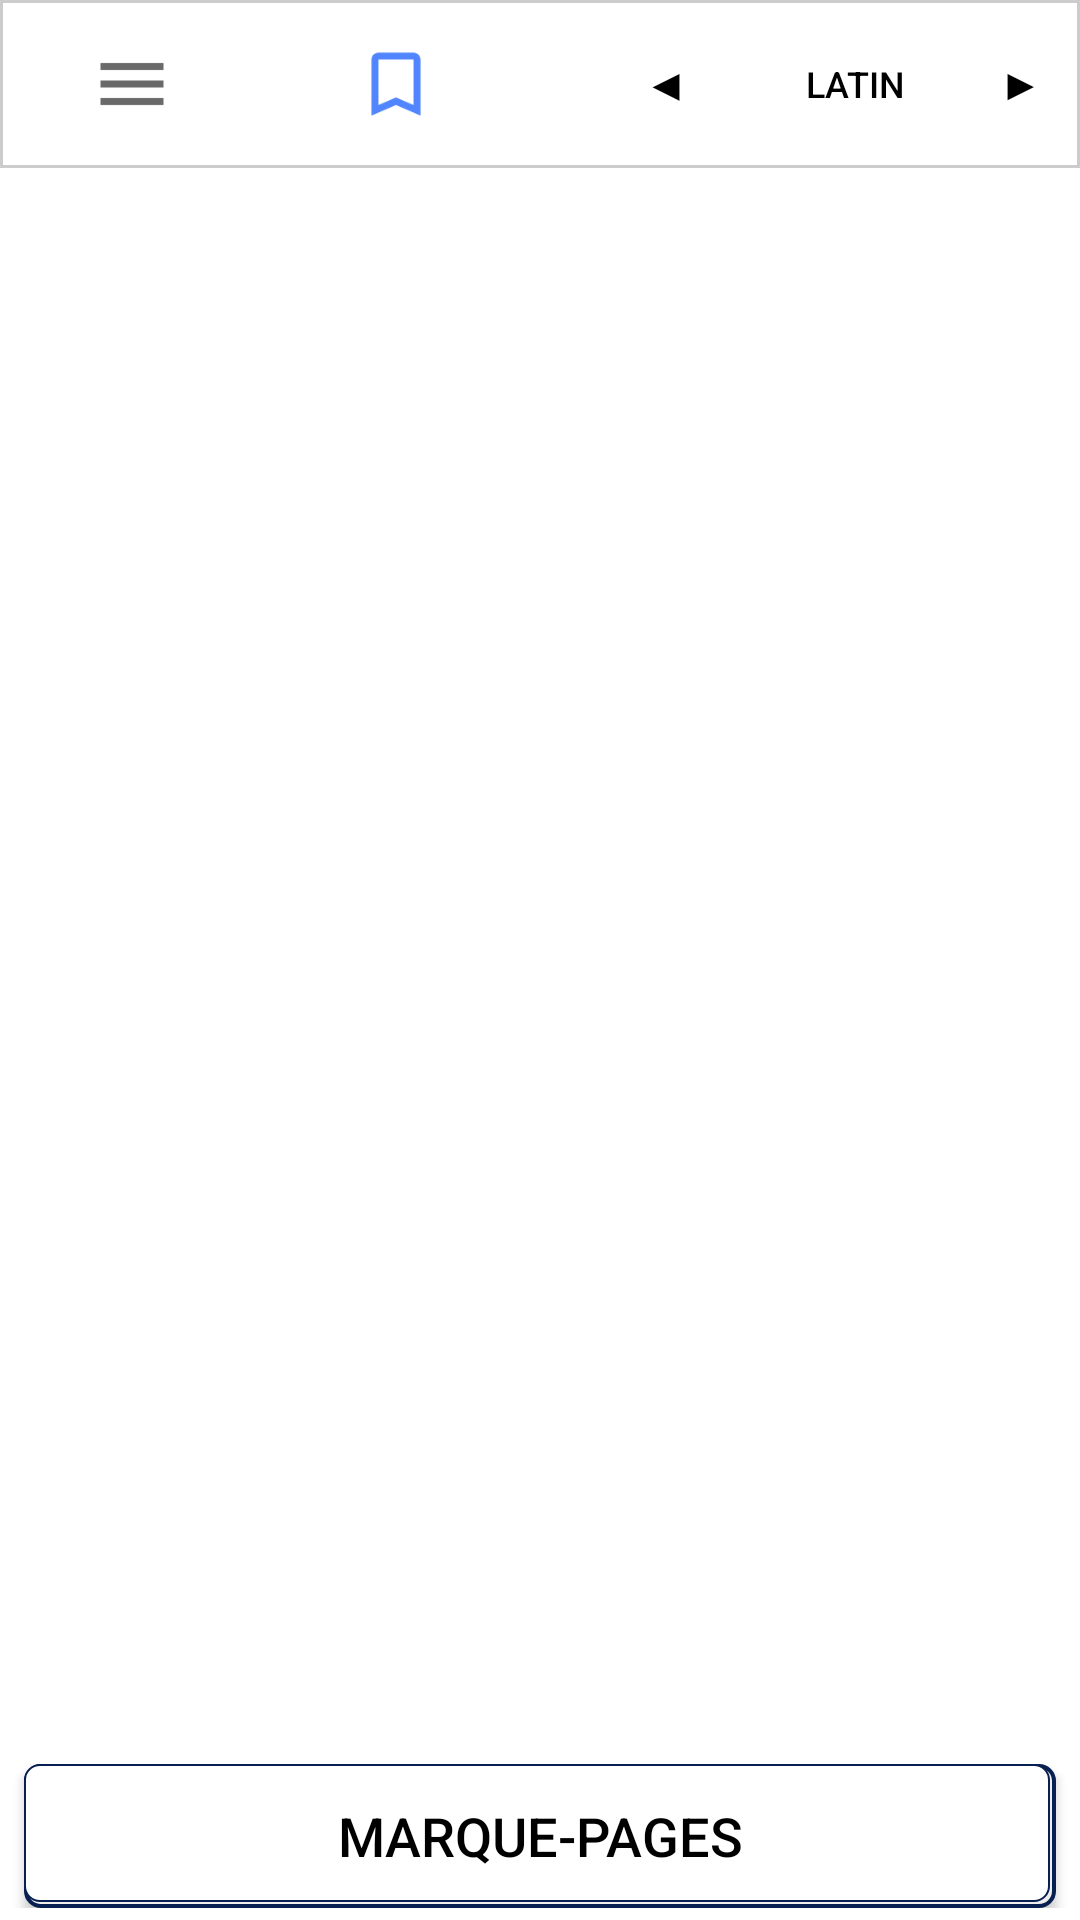

Screen size 1080*1920. Icon name, then its center in pixels as (x=x, y=y):
bouton bookmark: (x=396, y=84)
menu: (x=132, y=84)
